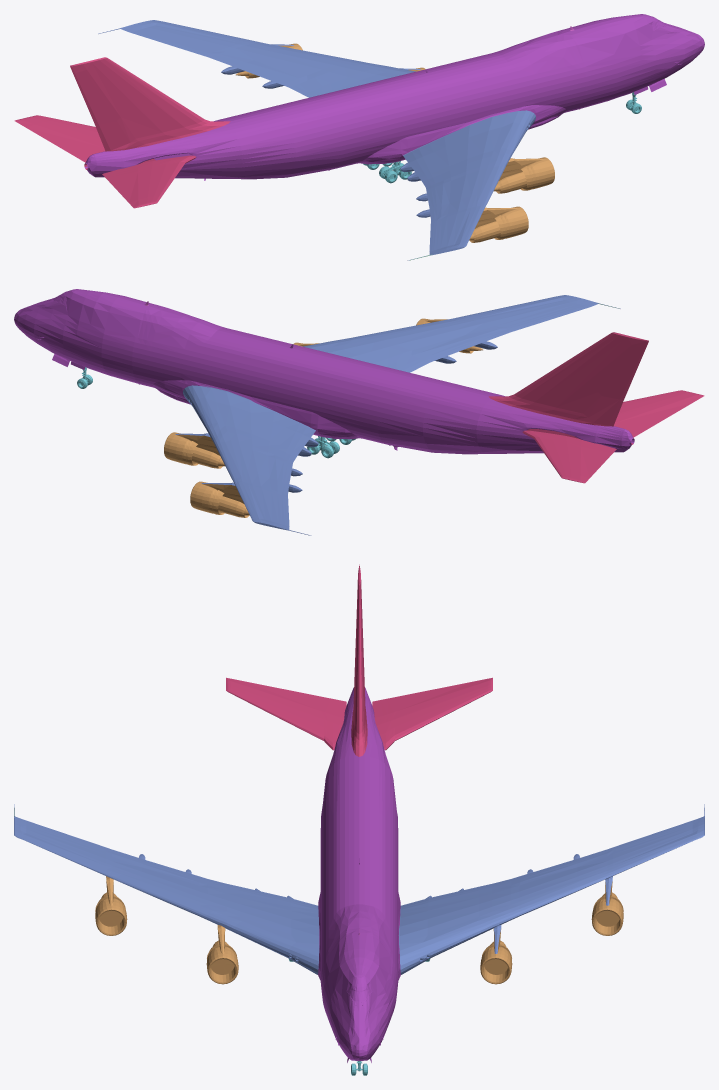
File: full_8_coarse.glb
3 renders of one model, top to bottom at view 1: azimuth 30°, elevation 25°; view 2: azimuth 150°, elevation 25°; view 3: azimuth 270°, elevation 25°, orthographic. The views are drawn at different scales.
Visible parts, largest first — view 1: world; view 2: world; view 3: world.
Boxes of the visible parts, left/top/right/bottom form: world: left=14, top=14, right=704, bottom=260; world: left=14, top=289, right=704, bottom=535; world: left=14, top=564, right=704, bottom=1075.
Bounding box in the file's own units: 0.7465 × 0.2066 × 0.6325.
